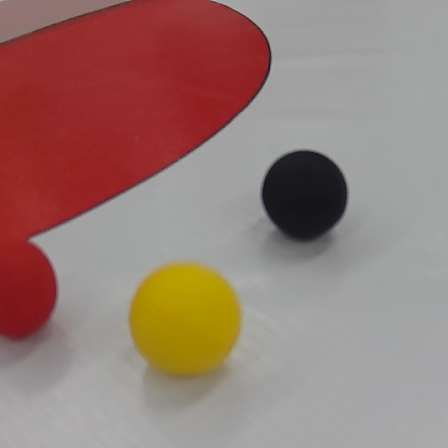black: (260, 150, 350, 240)
blue_base: (1, 3, 273, 234)
red: (0, 234, 59, 344)
yellow: (128, 259, 247, 377)
